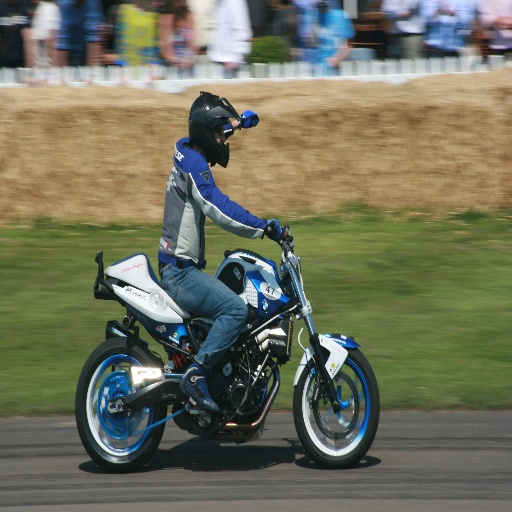hand: (265, 215, 283, 240)
